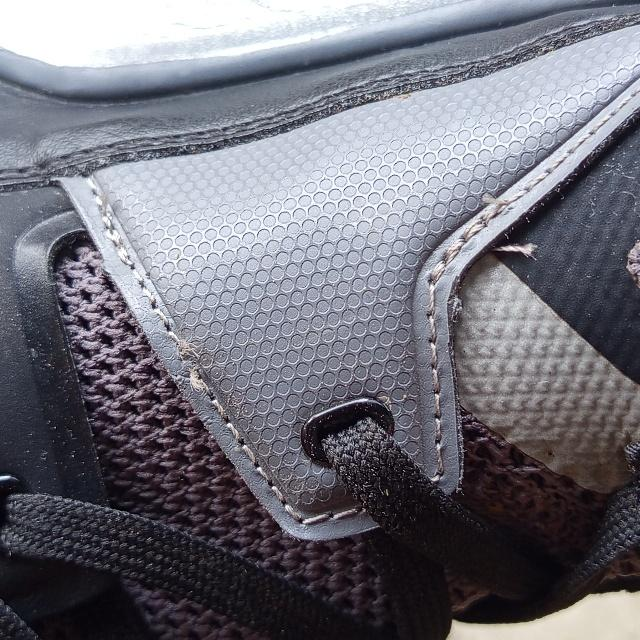broken: (166, 343, 218, 391)
